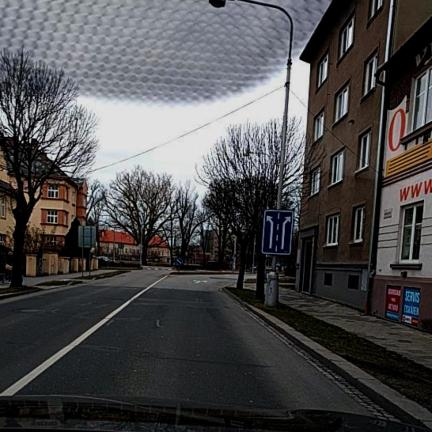Road: (0, 270, 376, 415)
